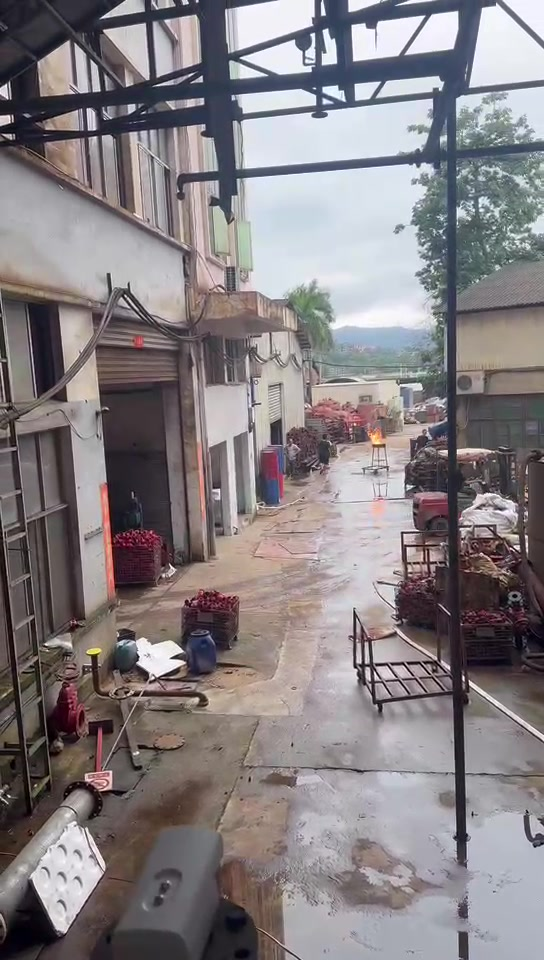fire: (365, 427, 383, 444)
